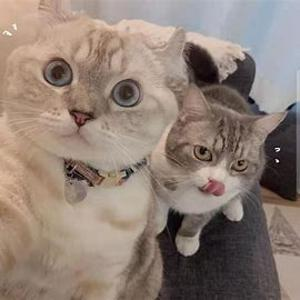cat: (24, 24, 169, 159), (182, 94, 272, 203)
